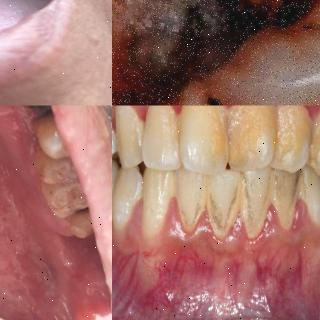Gum Swelling: (141, 196, 320, 250)
calculus: (176, 106, 228, 172), (228, 106, 276, 166), (275, 106, 313, 162), (146, 106, 176, 168), (256, 176, 282, 238), (227, 179, 251, 240), (285, 176, 309, 232), (197, 172, 213, 224), (311, 105, 320, 170)
cavities: (112, 0, 320, 106), (71, 203, 92, 230)
stains: (241, 169, 267, 244), (210, 174, 238, 241), (272, 169, 300, 224), (177, 182, 203, 241)
